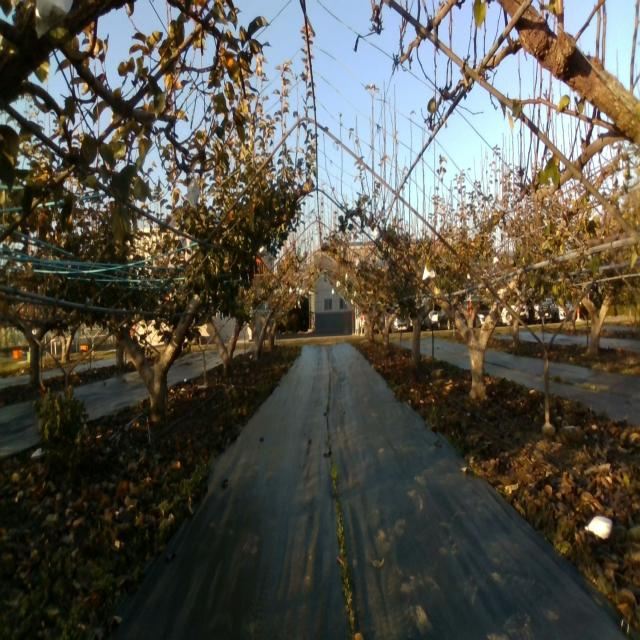pearbags: (187, 169, 200, 208)
